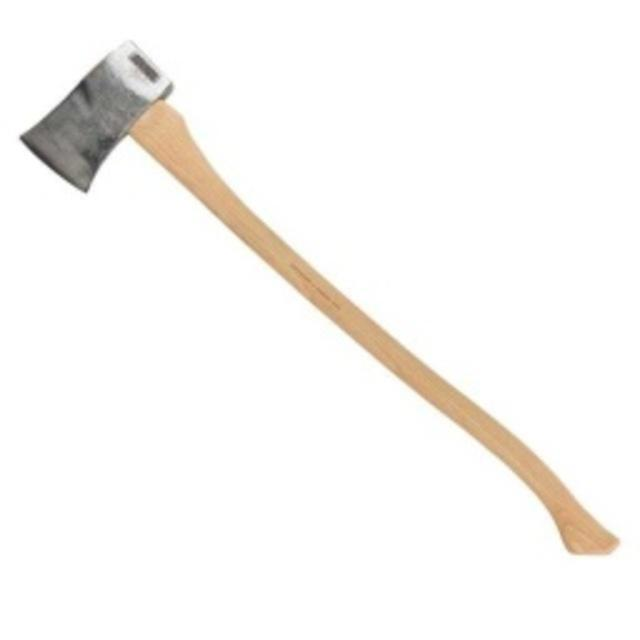ax: (20, 37, 625, 561)
